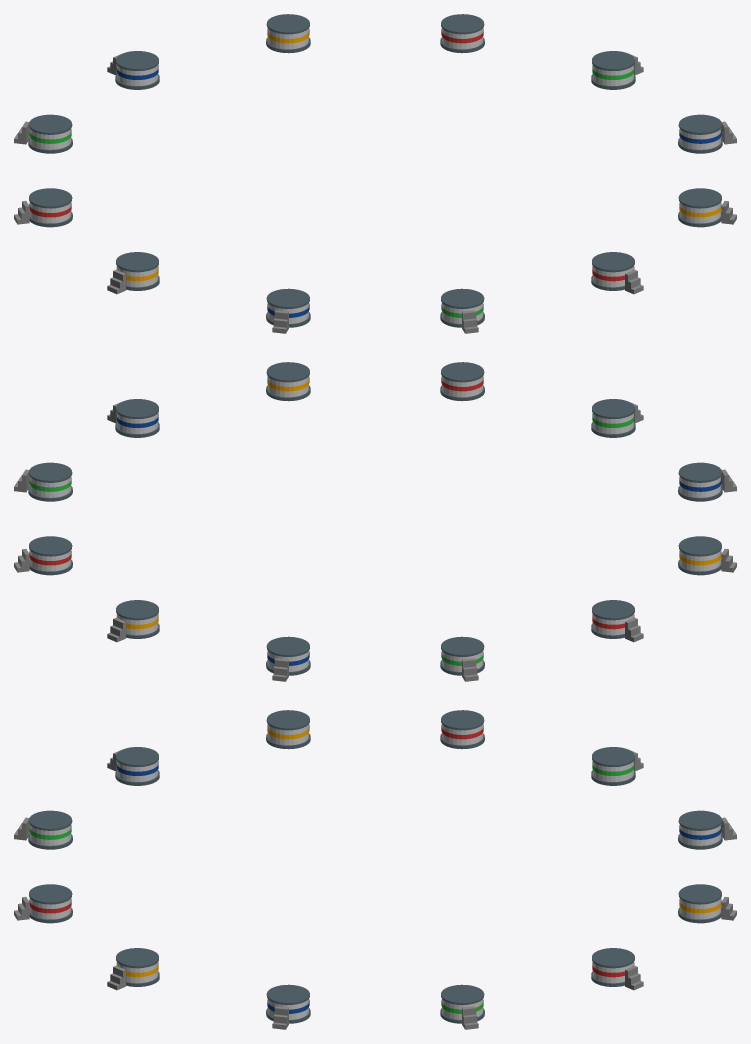
Rendered from PS_Cannon_Platforms.glb.
The picture shows the model from 3 angles, top to bottom: view 1: azimuth 30°, elevation 25°; view 2: azimuth 150°, elevation 25°; view 3: azimuth 270°, elevation 25°; orthographic projection.
Visible parts, largest first — view 1: Cannon Platform 02, Cannon Platform 09, Cannon Platform 03, Cannon Platform 08, Cannon Platform 01, Cannon Platform 10, Cannon Platform 04, Cannon Platform 07, Cannon Platform 11, Cannon Platform 12, Cannon Platform 05, Cannon Platform 06; view 2: Cannon Platform 05, Cannon Platform 10, Cannon Platform 04, Cannon Platform 11, Cannon Platform 06, Cannon Platform 09, Cannon Platform 03, Cannon Platform 12, Cannon Platform 07, Cannon Platform 08, Cannon Platform 01, Cannon Platform 02; view 3: Cannon Platform 01, Cannon Platform 06, Cannon Platform 07, Cannon Platform 12, Cannon Platform 02, Cannon Platform 05, Cannon Platform 08, Cannon Platform 11, Cannon Platform 03, Cannon Platform 04, Cannon Platform 09, Cannon Platform 10.
Part boxes in pixels (<box>): Cannon Platform 02: <box>678,188,736,227</box>; Cannon Platform 09: <box>14,188,72,227</box>; Cannon Platform 03: <box>678,114,736,153</box>; Cannon Platform 08: <box>14,114,72,153</box>; Cannon Platform 01: <box>591,252,643,294</box>; Cannon Platform 10: <box>107,252,159,294</box>; Cannon Platform 04: <box>591,51,643,89</box>; Cannon Platform 07: <box>107,51,159,89</box>; Cannon Platform 11: <box>266,288,310,333</box>; Cannon Platform 12: <box>440,288,484,333</box>; Cannon Platform 05: <box>440,14,484,53</box>; Cannon Platform 06: <box>266,14,310,53</box>; Cannon Platform 05: <box>14,536,72,575</box>; Cannon Platform 10: <box>678,536,736,575</box>; Cannon Platform 04: <box>14,462,72,501</box>; Cannon Platform 11: <box>678,462,736,501</box>; Cannon Platform 06: <box>107,600,159,642</box>; Cannon Platform 09: <box>591,600,643,642</box>; Cannon Platform 03: <box>107,399,159,437</box>; Cannon Platform 12: <box>591,399,643,437</box>; Cannon Platform 07: <box>266,636,310,681</box>; Cannon Platform 08: <box>440,636,484,681</box>; Cannon Platform 01: <box>440,362,484,401</box>; Cannon Platform 02: <box>266,362,310,401</box>; Cannon Platform 01: <box>14,884,72,923</box>; Cannon Platform 06: <box>678,884,736,923</box>; Cannon Platform 07: <box>678,810,736,849</box>; Cannon Platform 12: <box>14,810,72,849</box>; Cannon Platform 02: <box>107,948,159,990</box>; Cannon Platform 05: <box>591,948,643,990</box>; Cannon Platform 08: <box>591,747,643,785</box>; Cannon Platform 11: <box>107,747,159,785</box>; Cannon Platform 03: <box>266,984,310,1029</box>; Cannon Platform 04: <box>440,984,484,1029</box>; Cannon Platform 09: <box>440,710,484,749</box>; Cannon Platform 10: <box>266,710,310,749</box>.
Size of what is drawn, in the model's own units: 210 by 6.56 by 210.
Materials: 4 (4 with a texture image).
